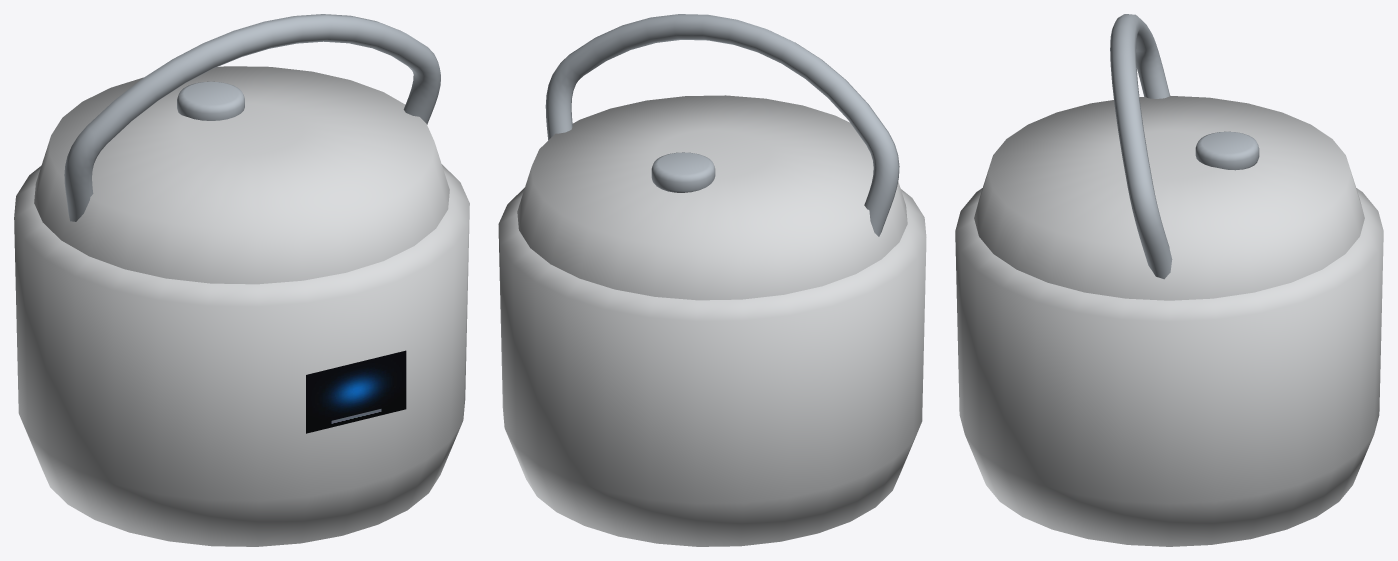
The model's file is rice_cooker_smart-b4058b47b6c6.glb.
3 renders of one model, left to right at view 1: azimuth 30°, elevation 25°; view 2: azimuth 150°, elevation 25°; view 3: azimuth 270°, elevation 25°, orthographic. The views are drawn at different scales.
Visible parts, largest first — view 1: Lid_Dome, Carry_Handle, Screen_Surface; view 2: Lid_Dome, Carry_Handle; view 3: Lid_Dome, Carry_Handle.
Part boxes in pixels (bbox=[...]): Lid_Dome: bbox=[14, 66, 469, 546]; Carry_Handle: bbox=[64, 14, 440, 221]; Screen_Surface: bbox=[306, 350, 406, 433]; Lid_Dome: bbox=[498, 95, 926, 546]; Carry_Handle: bbox=[545, 14, 899, 236]; Lid_Dome: bbox=[955, 95, 1383, 546]; Carry_Handle: bbox=[1110, 14, 1259, 279].
Bounding box in the file's own units: 0.296 × 0.3269 × 0.296.
4 materials, 1 textured.
